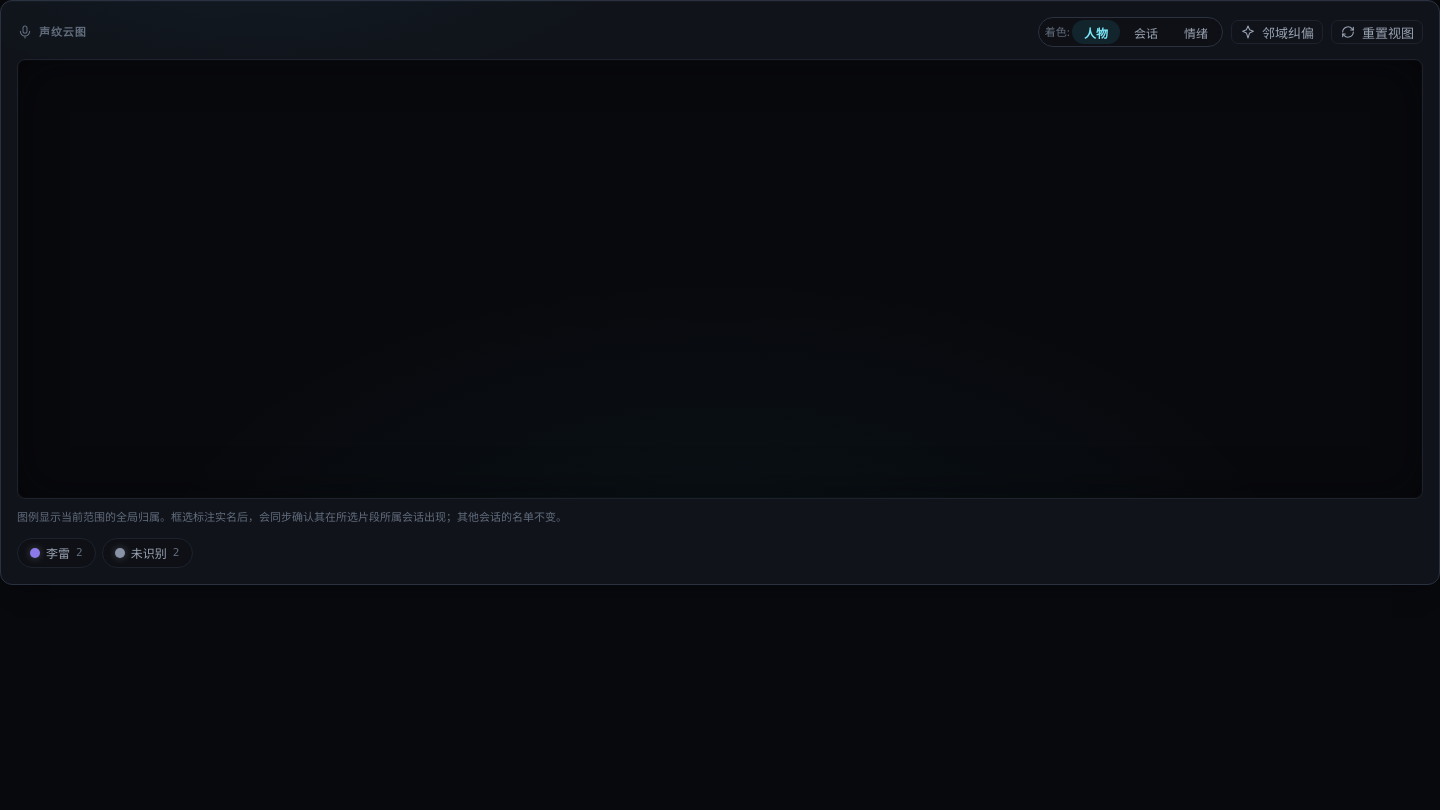
VoiceprintMap › reports when neighbour correction preview has no changes
The width and height of the screenshot is (1440, 810).
Expected: the list named "图例" is shown, [17,538,192,568]
Click the button "邻域纠偏": click(1277, 32) [1231,20,1323,44]
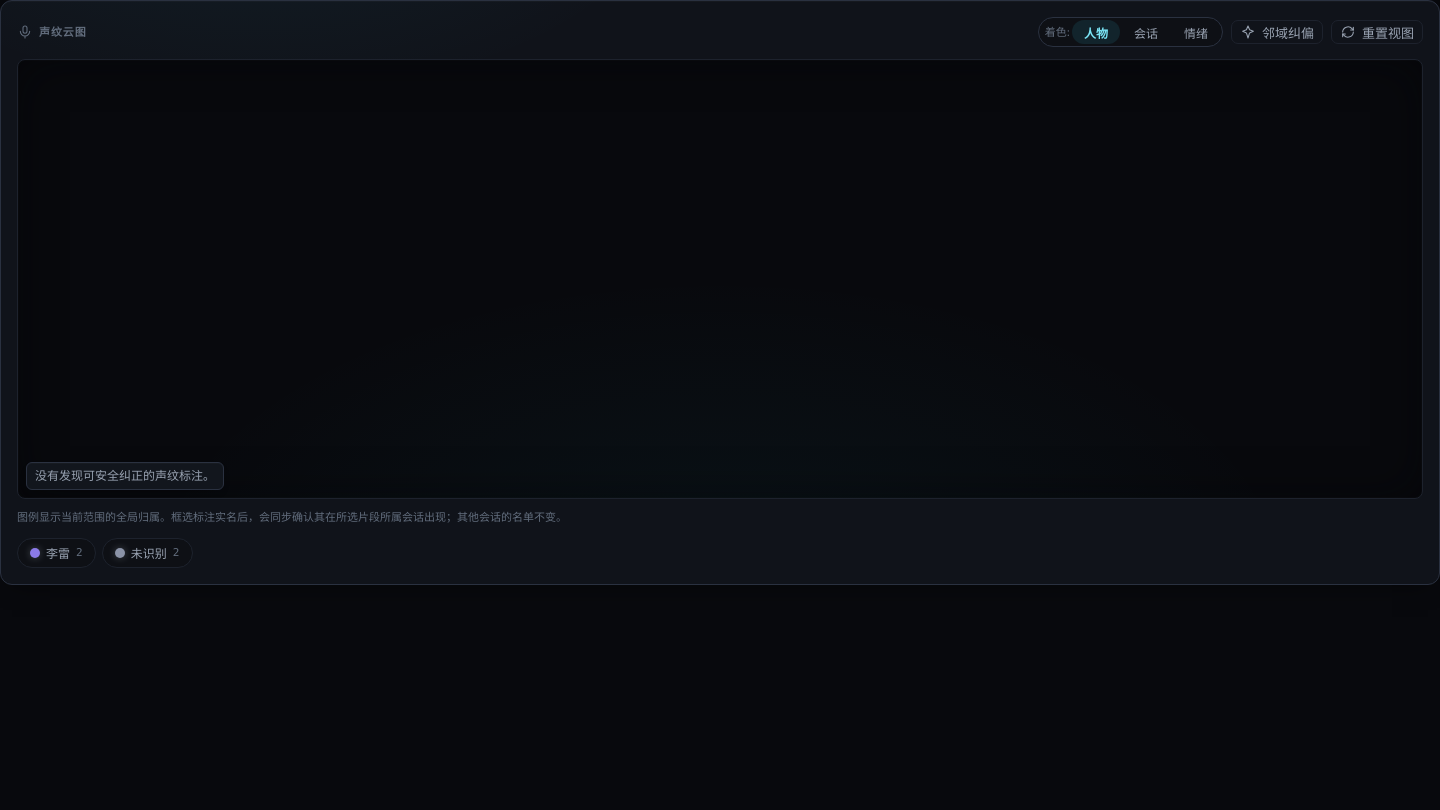
Now the text "没有发现可安全纠正的声纹标注。" is shown, box [26,462,224,490]
